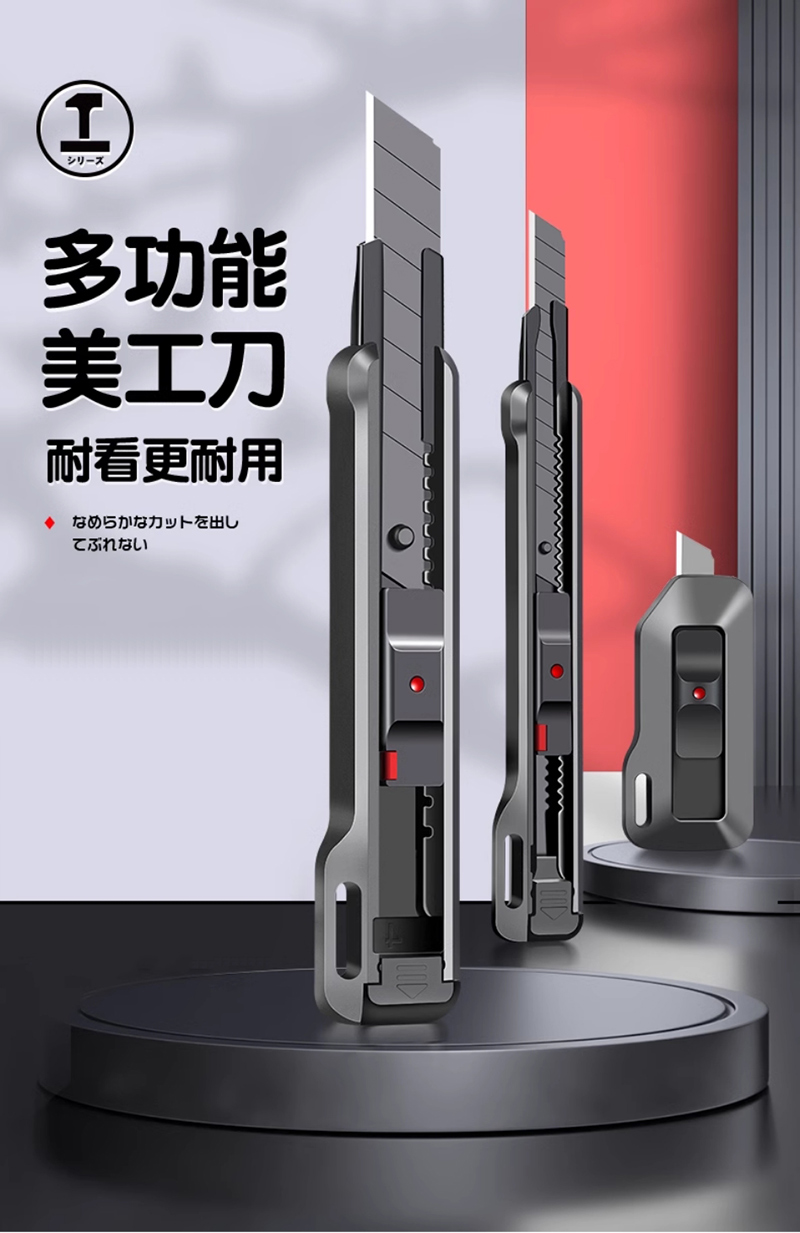cutter: (311, 91, 463, 1027), (489, 209, 586, 948), (618, 525, 757, 847)
